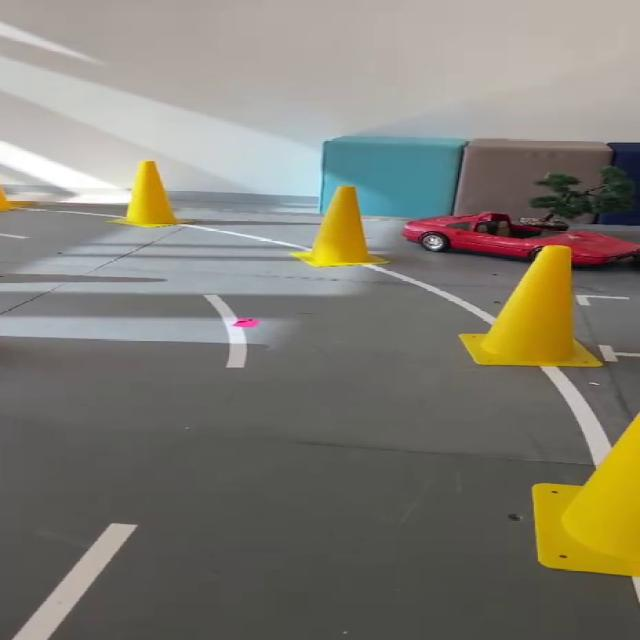Cones-yellow: (534, 415, 639, 578), (461, 245, 601, 367), (291, 186, 388, 267), (112, 160, 181, 227), (0, 185, 14, 212)
